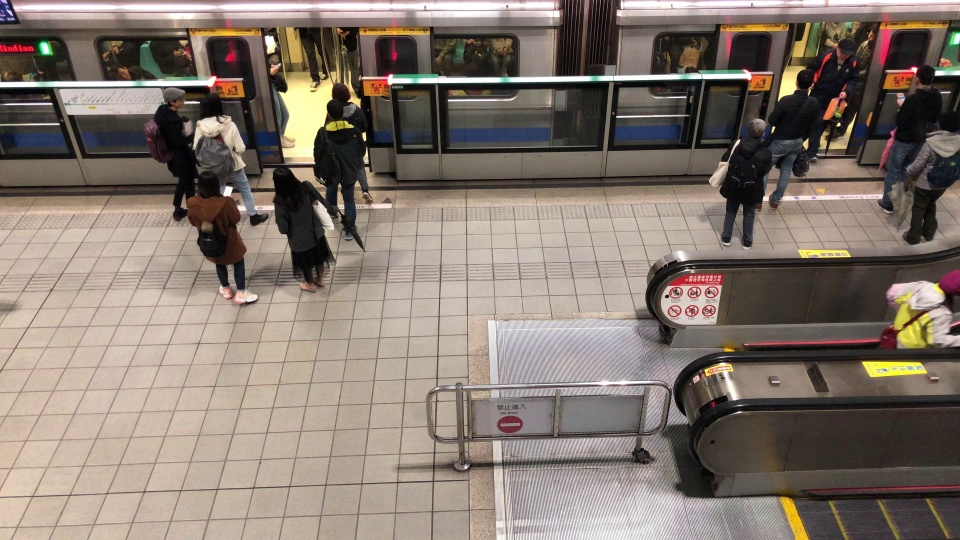person_head: (738, 113, 774, 147), (906, 63, 937, 95), (266, 165, 299, 193), (937, 101, 960, 139), (784, 73, 815, 100), (191, 173, 221, 198), (161, 84, 188, 111), (938, 266, 960, 297), (321, 103, 344, 129), (204, 91, 223, 120), (327, 81, 351, 103)
person_vbox: (176, 172, 258, 308), (189, 90, 268, 224), (700, 110, 774, 250), (866, 63, 934, 211), (897, 97, 959, 251), (263, 166, 336, 296), (307, 102, 371, 244), (862, 264, 960, 353), (138, 83, 199, 222), (314, 81, 375, 206), (769, 69, 815, 210)
